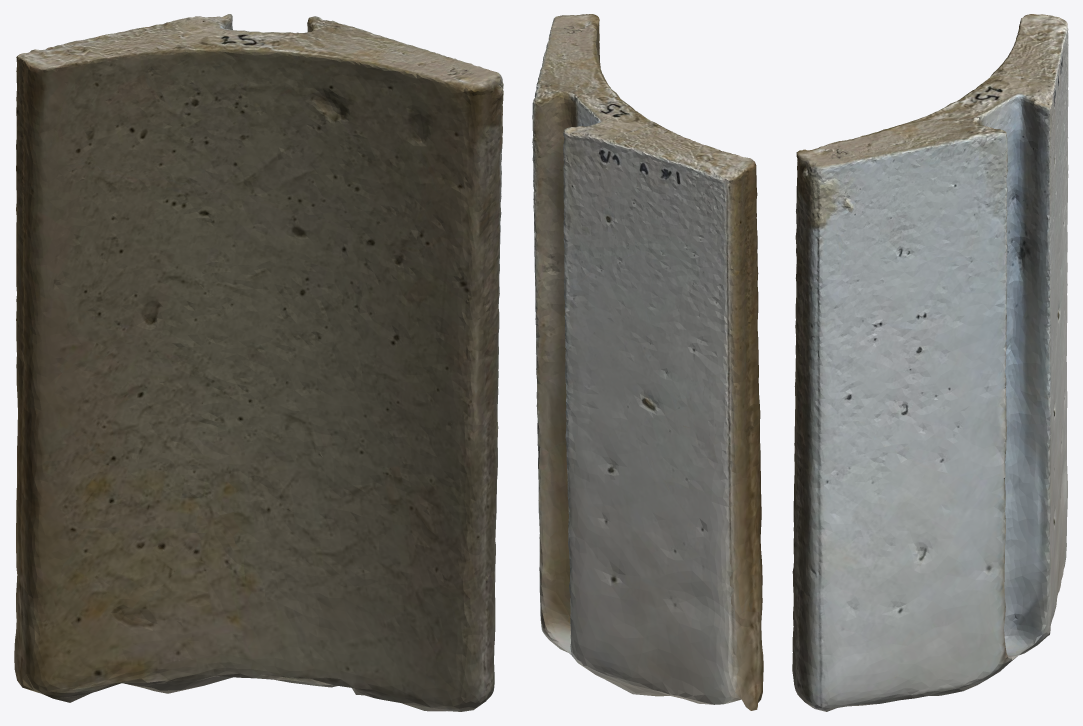
File: Pixel 25.glb
The picture shows the model from 3 angles, left to right: view 1: azimuth 30°, elevation 25°; view 2: azimuth 150°, elevation 25°; view 3: azimuth 270°, elevation 25°; orthographic projection. The views are drawn at different scales.
Size of the model in its own units: 0.1526 by 0.2658 by 0.116.
Materials: 1 (1 with a texture image).
